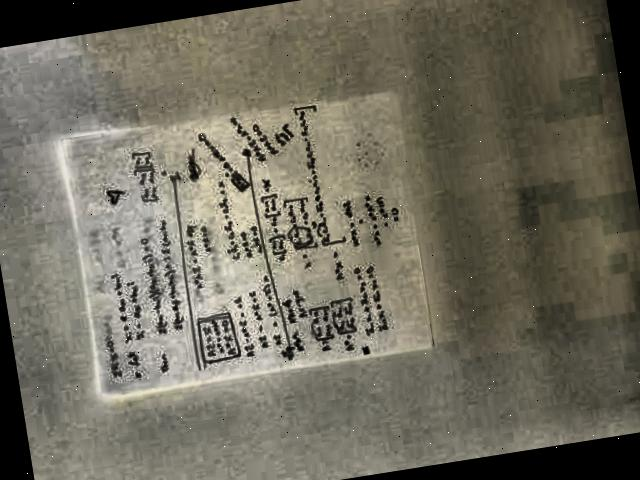Paper: (44, 78, 442, 410)
